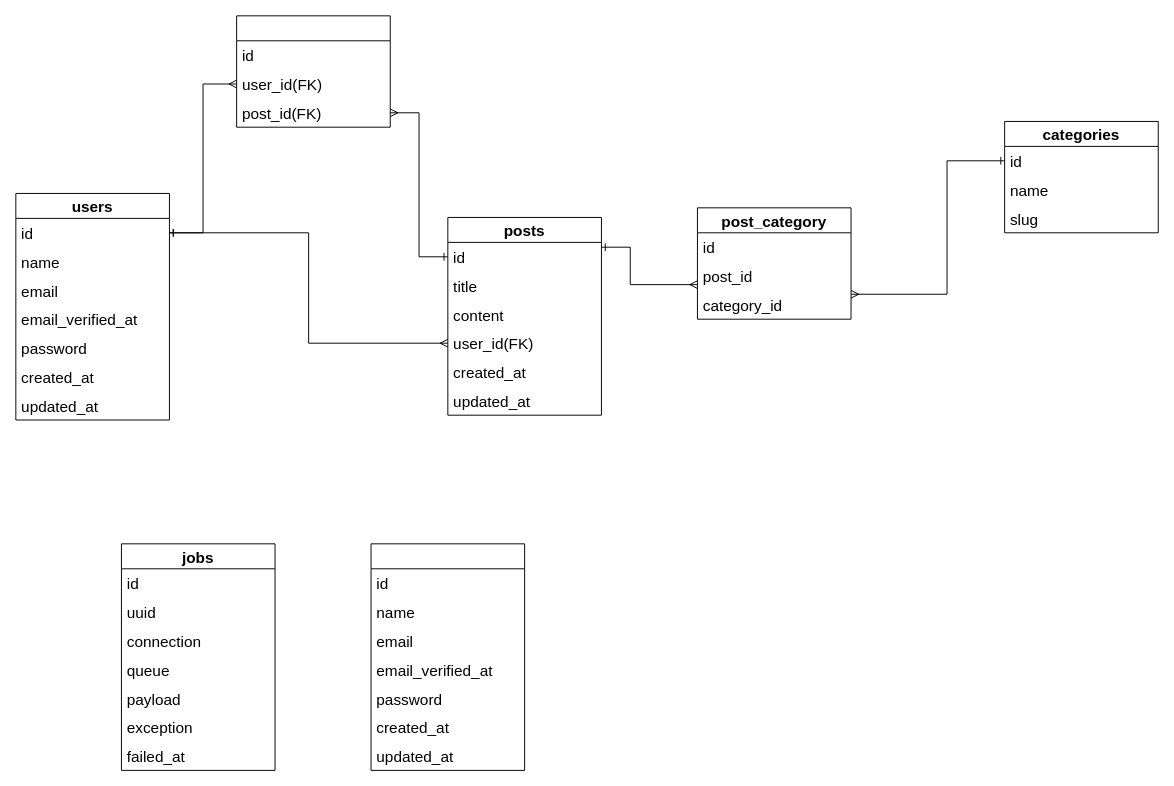
Image size: 1174x786. Some labels were removed from this diagram. Here are the shapes that lost their labels. From the top down, the box of each, then its label:
(236, 15, 390, 127): post_likes
(370, 543, 525, 770): admin_users
